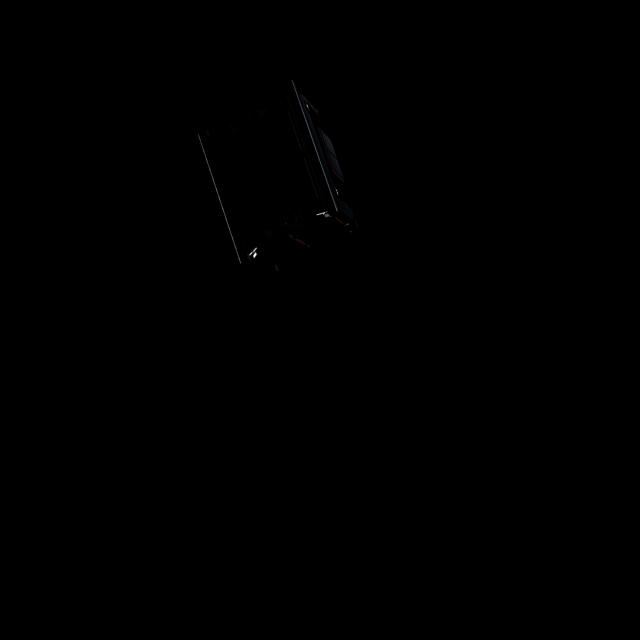satellite: (183, 73, 367, 280)
